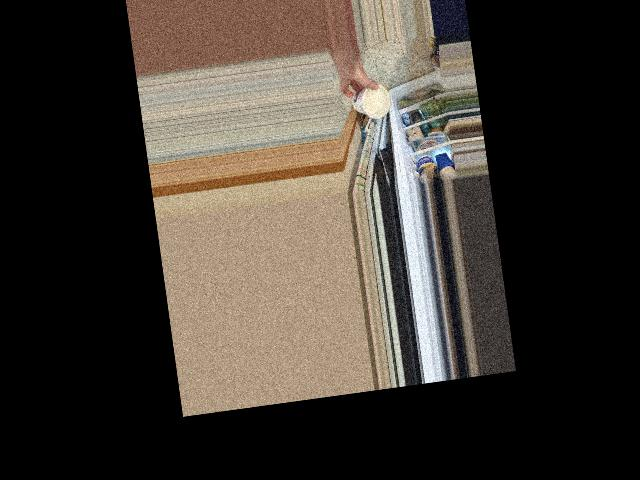cotage: (350, 84, 390, 121)
